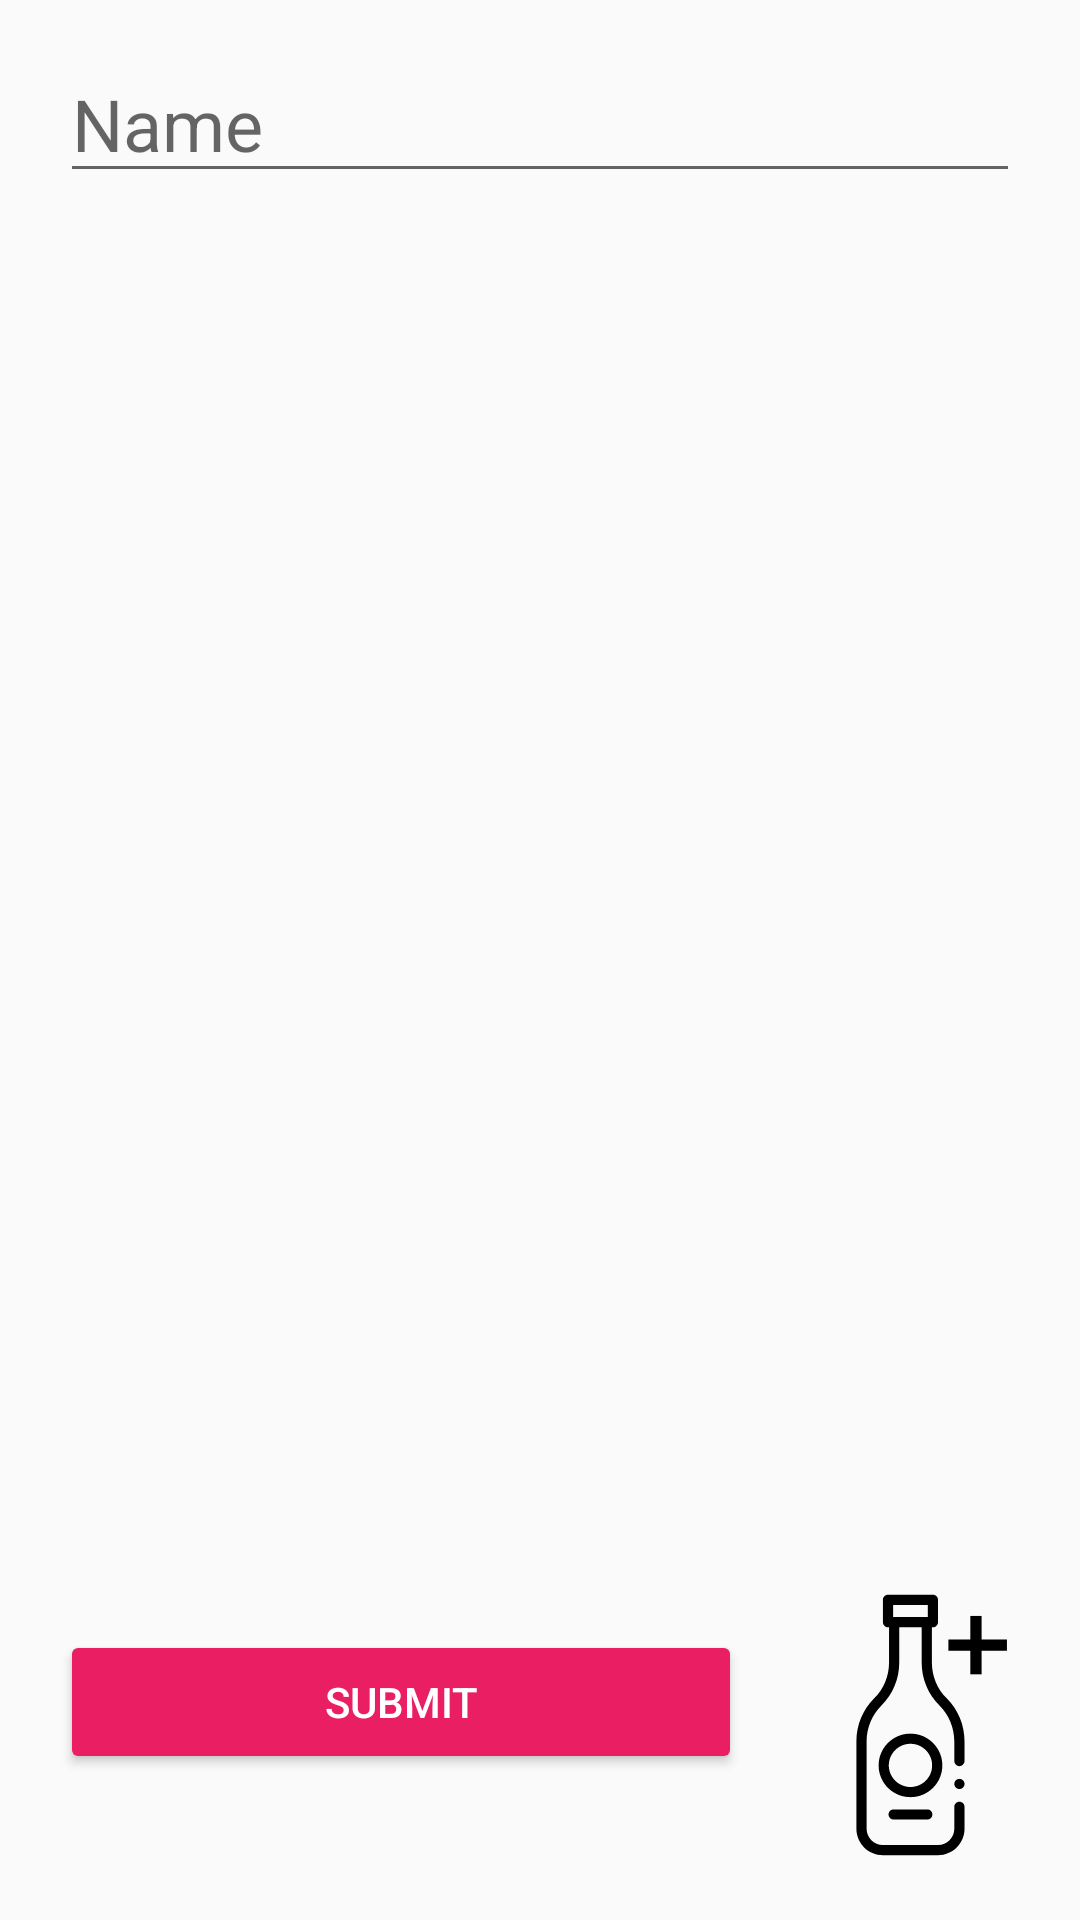

Icons on this 1080x1920 Android screen, each with its box as (x1, y1, x2, y2):
beer add: (856, 1594, 1007, 1856)
